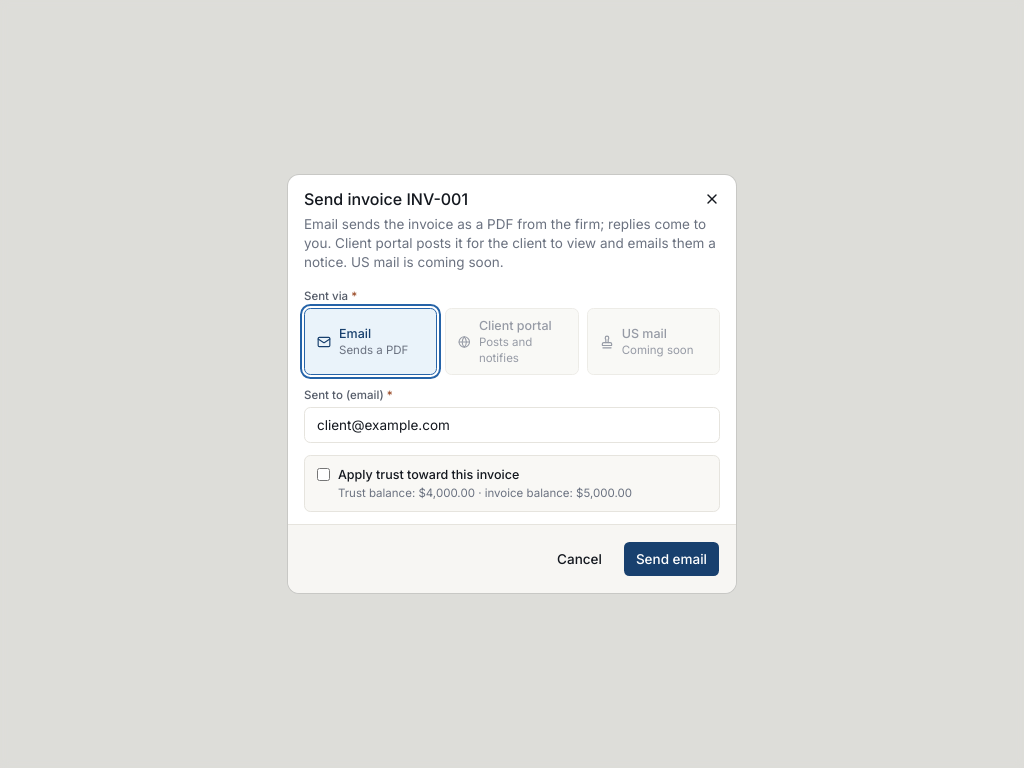
Test: SendInvoiceDialog › a comma amount is parsed like the server: caps and previews use 1,000 not 1
Step 1. Click the checkbox labelled "Apply trust toward this invoice" → [324, 474], box [317,468,330,481]
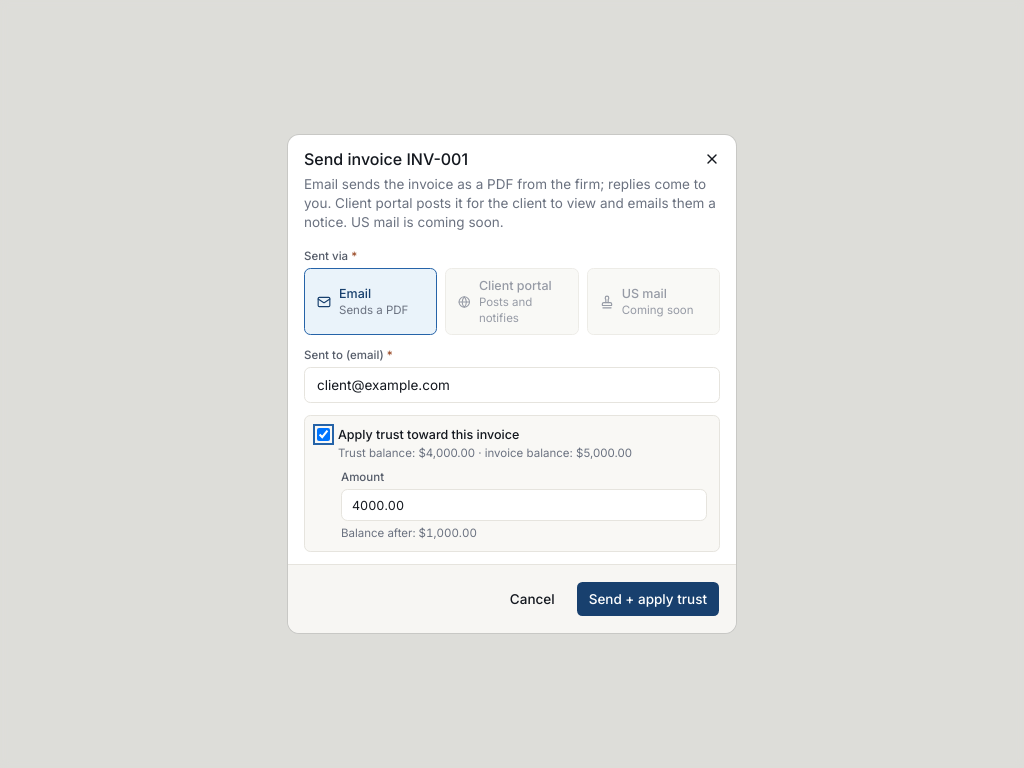
Step 2. Clear the field labelled "Amount" → [524, 505], box [341,489,707,521]
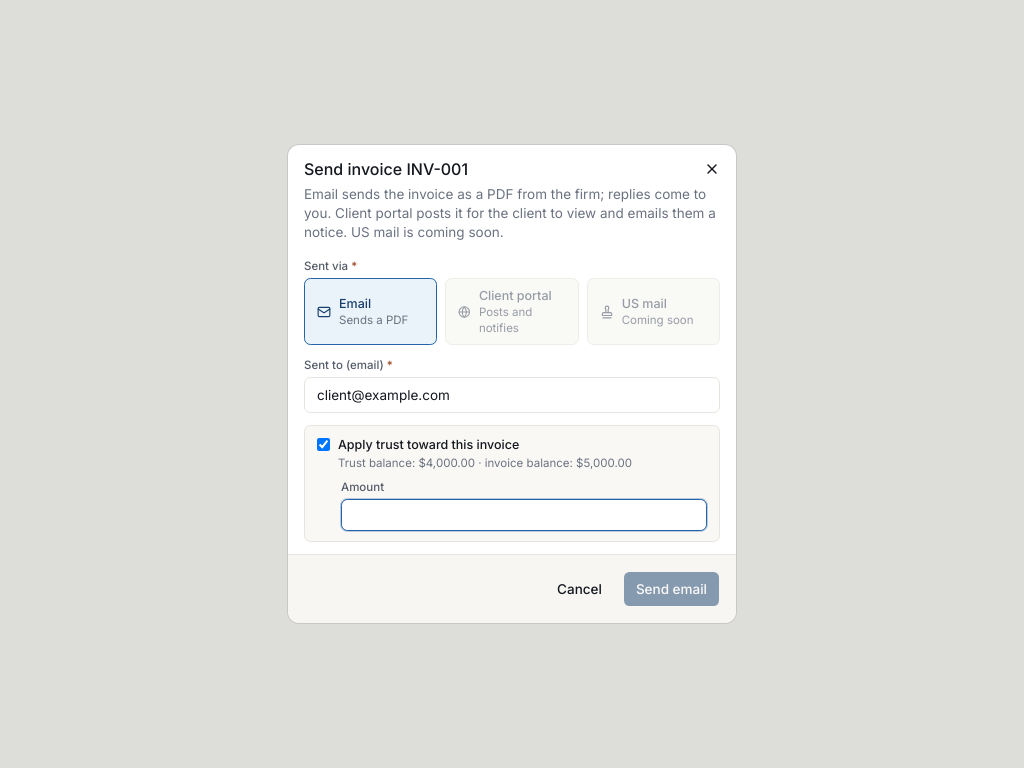
Step 3. Type "1,000" into the field labelled "Amount" → [524, 515], box [341,499,707,531]
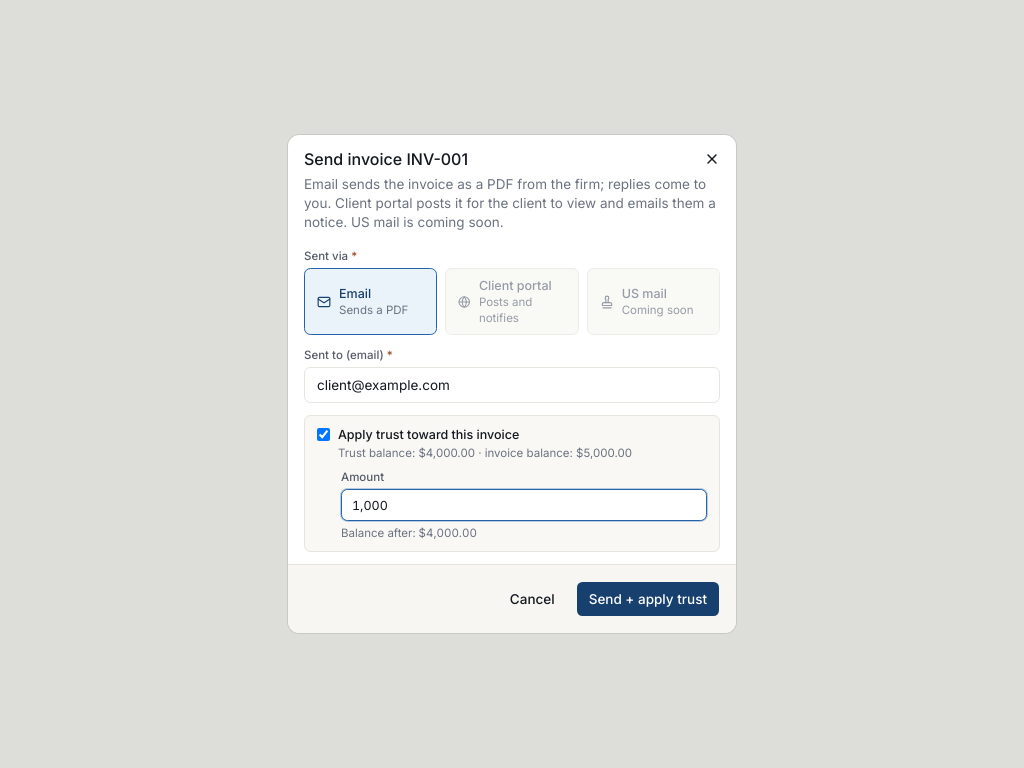
Expected: the text "Balance after: $4,000.00" is shown, [341,526,477,540]
Step 4. Clear the field labelled "Amount" → [524, 505], box [341,489,707,521]
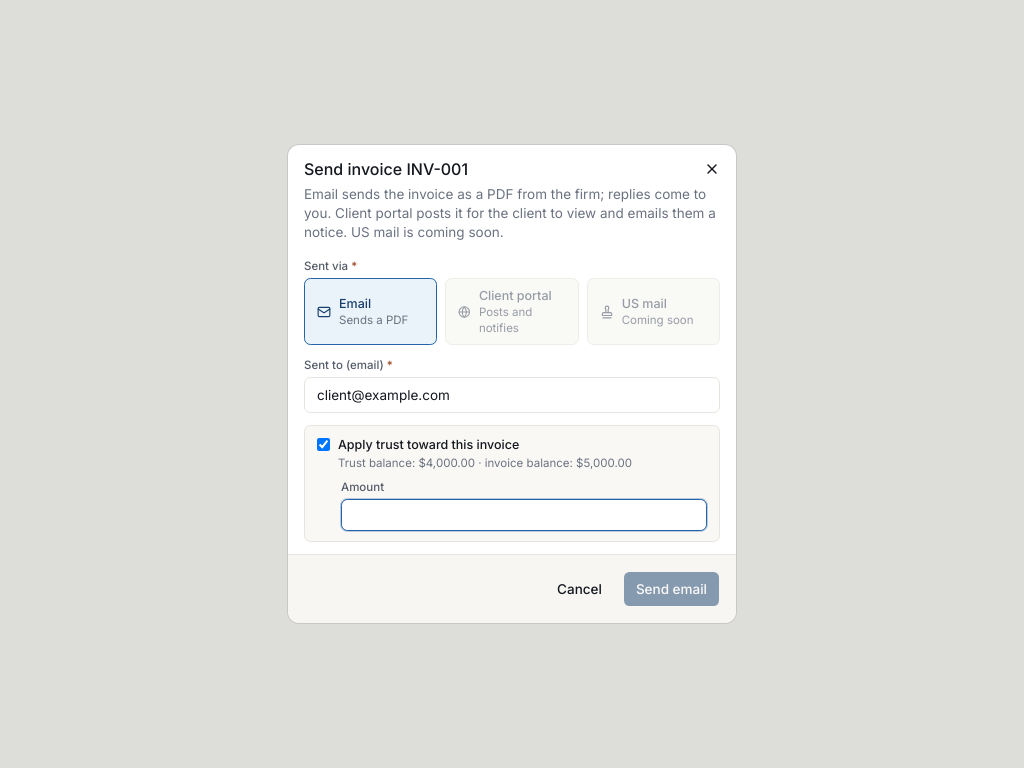
Step 5. Type "4,500" into the field labelled "Amount" → [524, 515], box [341,499,707,531]
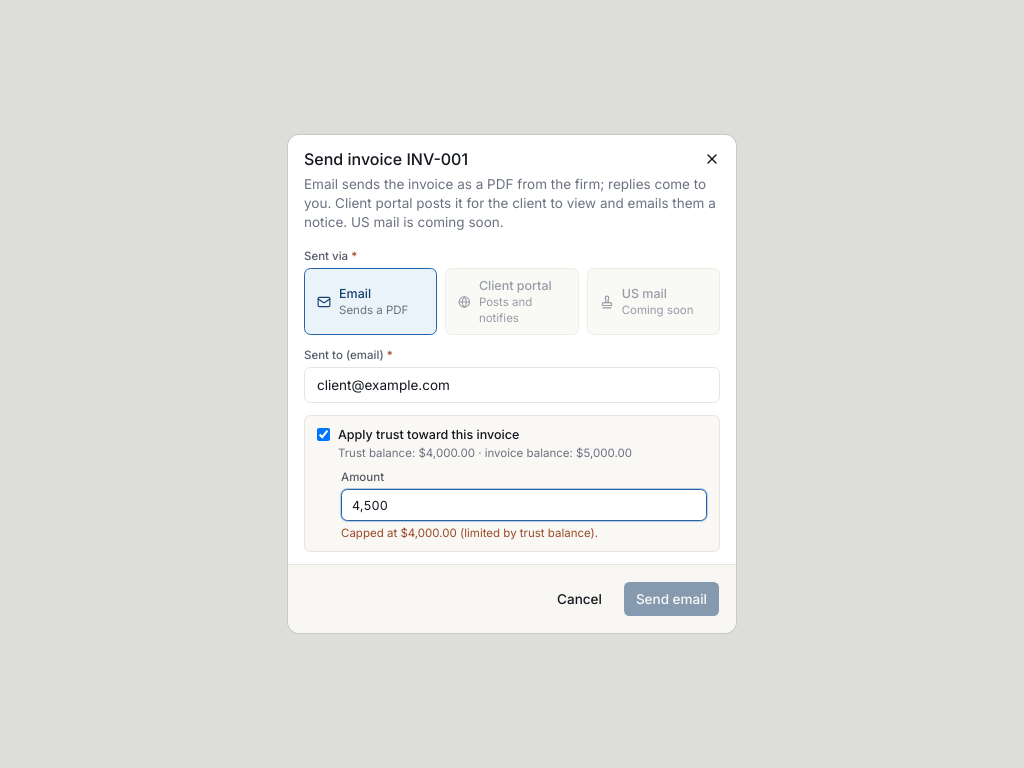
Expected: the button "Send email" is disabled, [623,581,720,617]
Expected: the text "Capped at $4,000.00 (limited by trust balance)." is shown, [341,526,598,540]
